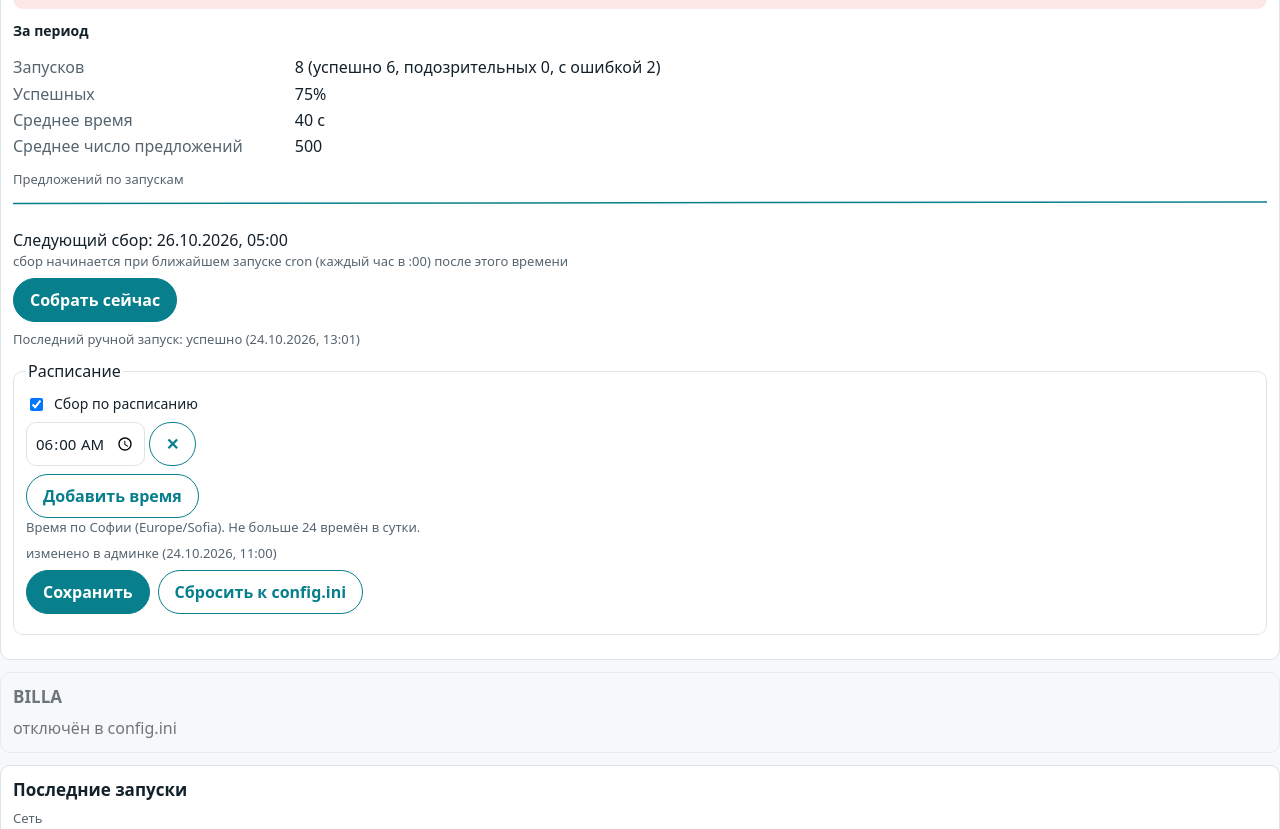
Test: Collection tab › blocks saving an invalid slot
(page scrolled)
Clear the time field named "Время 1" at (85, 444), box [26, 422, 145, 466]
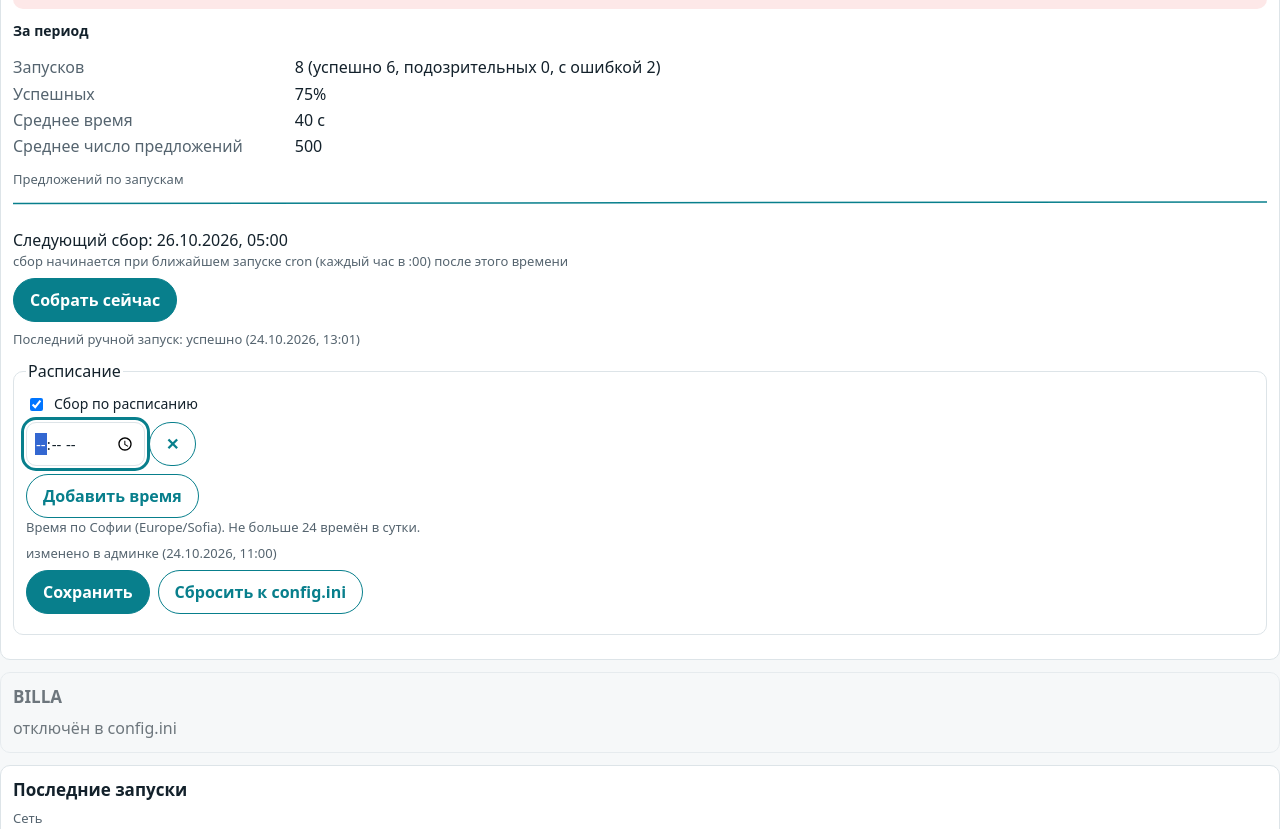
Click the button "Сохранить" at (88, 592), box [26, 570, 150, 614]
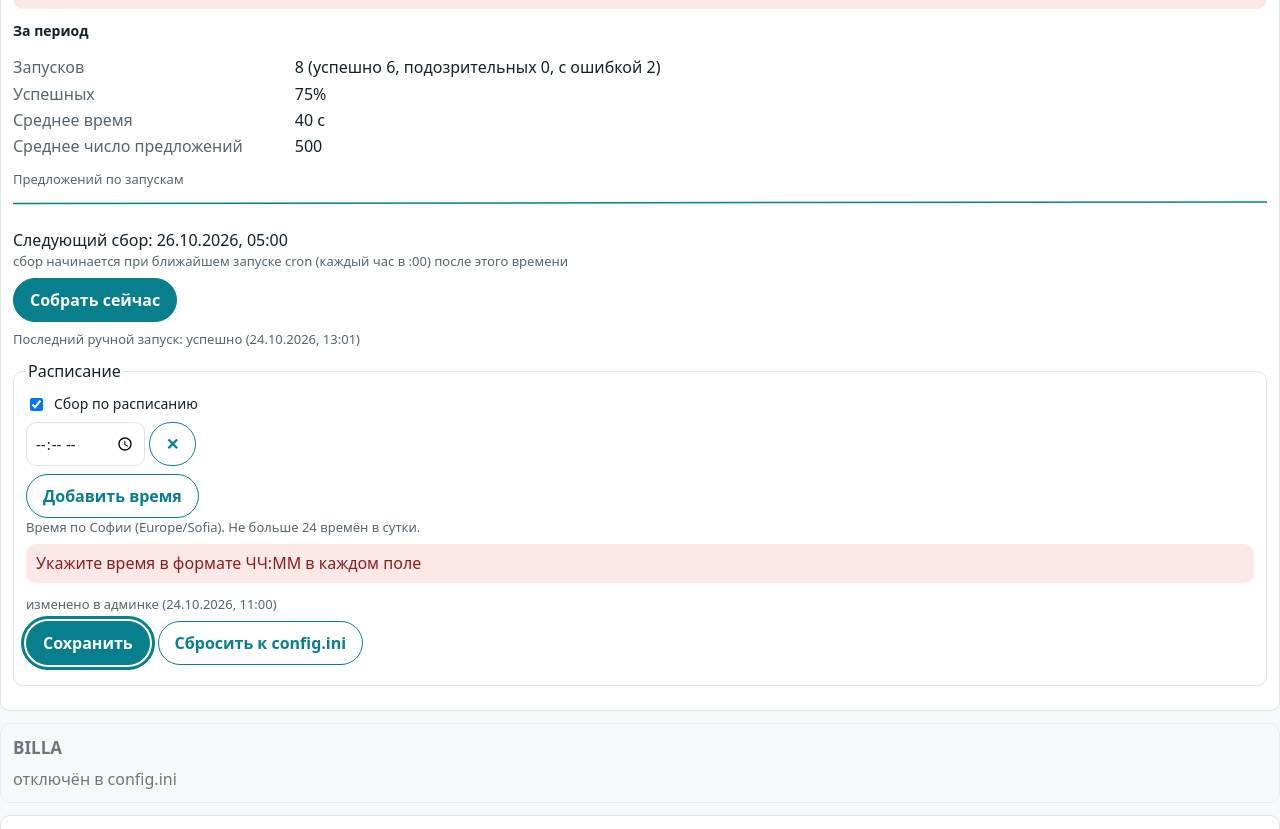
Now the text "Укажите время в формате ЧЧ:ММ в каждом поле" is shown, box [26, 544, 1254, 583]
